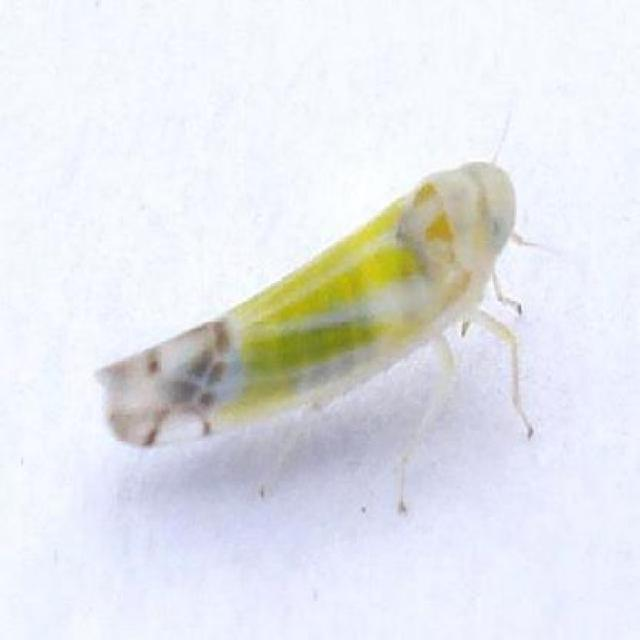green-leafhopper: (95, 161, 534, 513)
